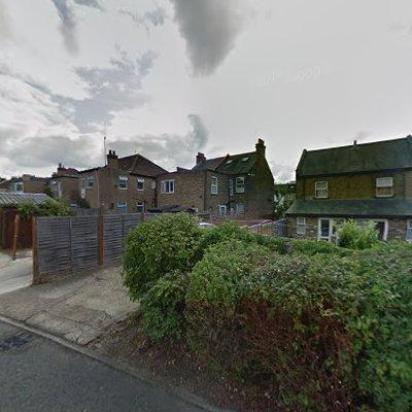stationary-car-offstreet: (199, 220, 223, 230)
